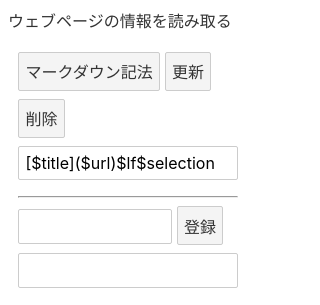
マークダウン記法ボタンをクリックしたらスクリプトが送り込まれる
Click the button "マークダウン記法" at (89, 71), box [18,52,160,91]
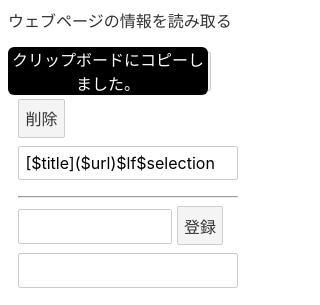
Check: the text "クリップボードにコピーしました。" is shown, box [8,47,208,95]
